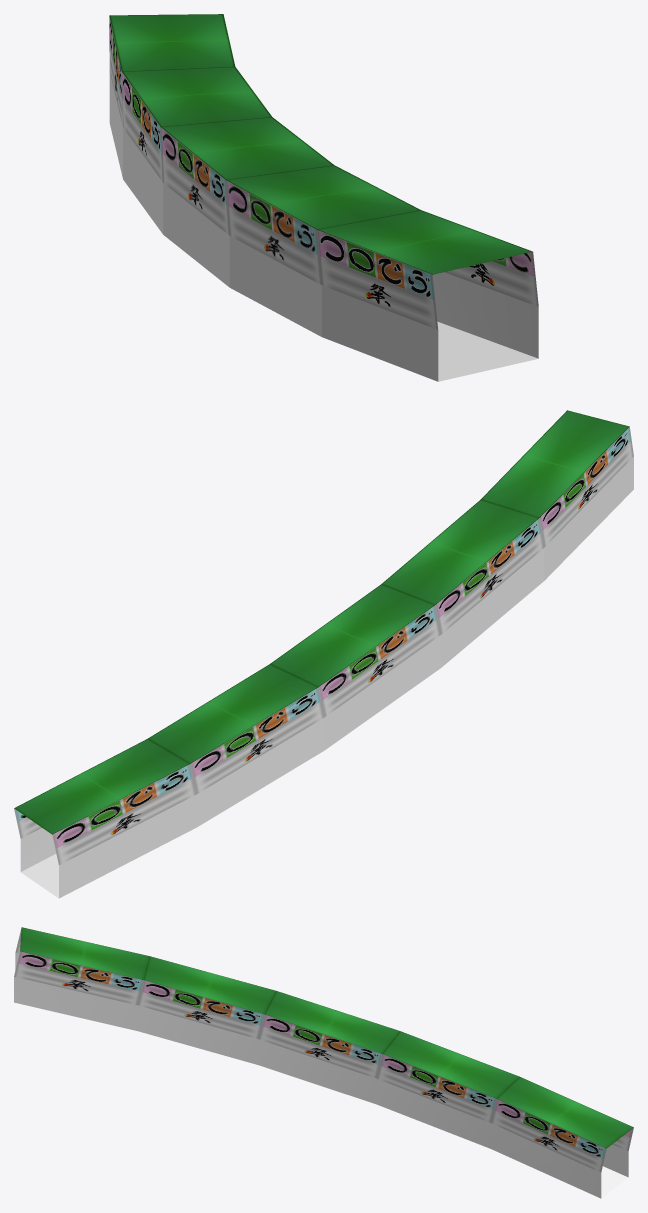
The model's file is CourseWinter_Wall_R_2.fbx.
3 renders of one model, top to bottom at view 1: azimuth 30°, elevation 25°; view 2: azimuth 150°, elevation 25°; view 3: azimuth 270°, elevation 25°, orthographic. The views are drawn at different scales.
Visible parts, largest first — view 1: polySurface422; view 2: polySurface422; view 3: polySurface422.
Part boxes in pixels (x1,y1,x2,y2): polySurface422: (109,14,538,381); polySurface422: (14,410,633,898); polySurface422: (14,927,633,1198).
Size of the model in its own units: 7.6 by 6.98 by 21.66.
1 material, 1 textured.
